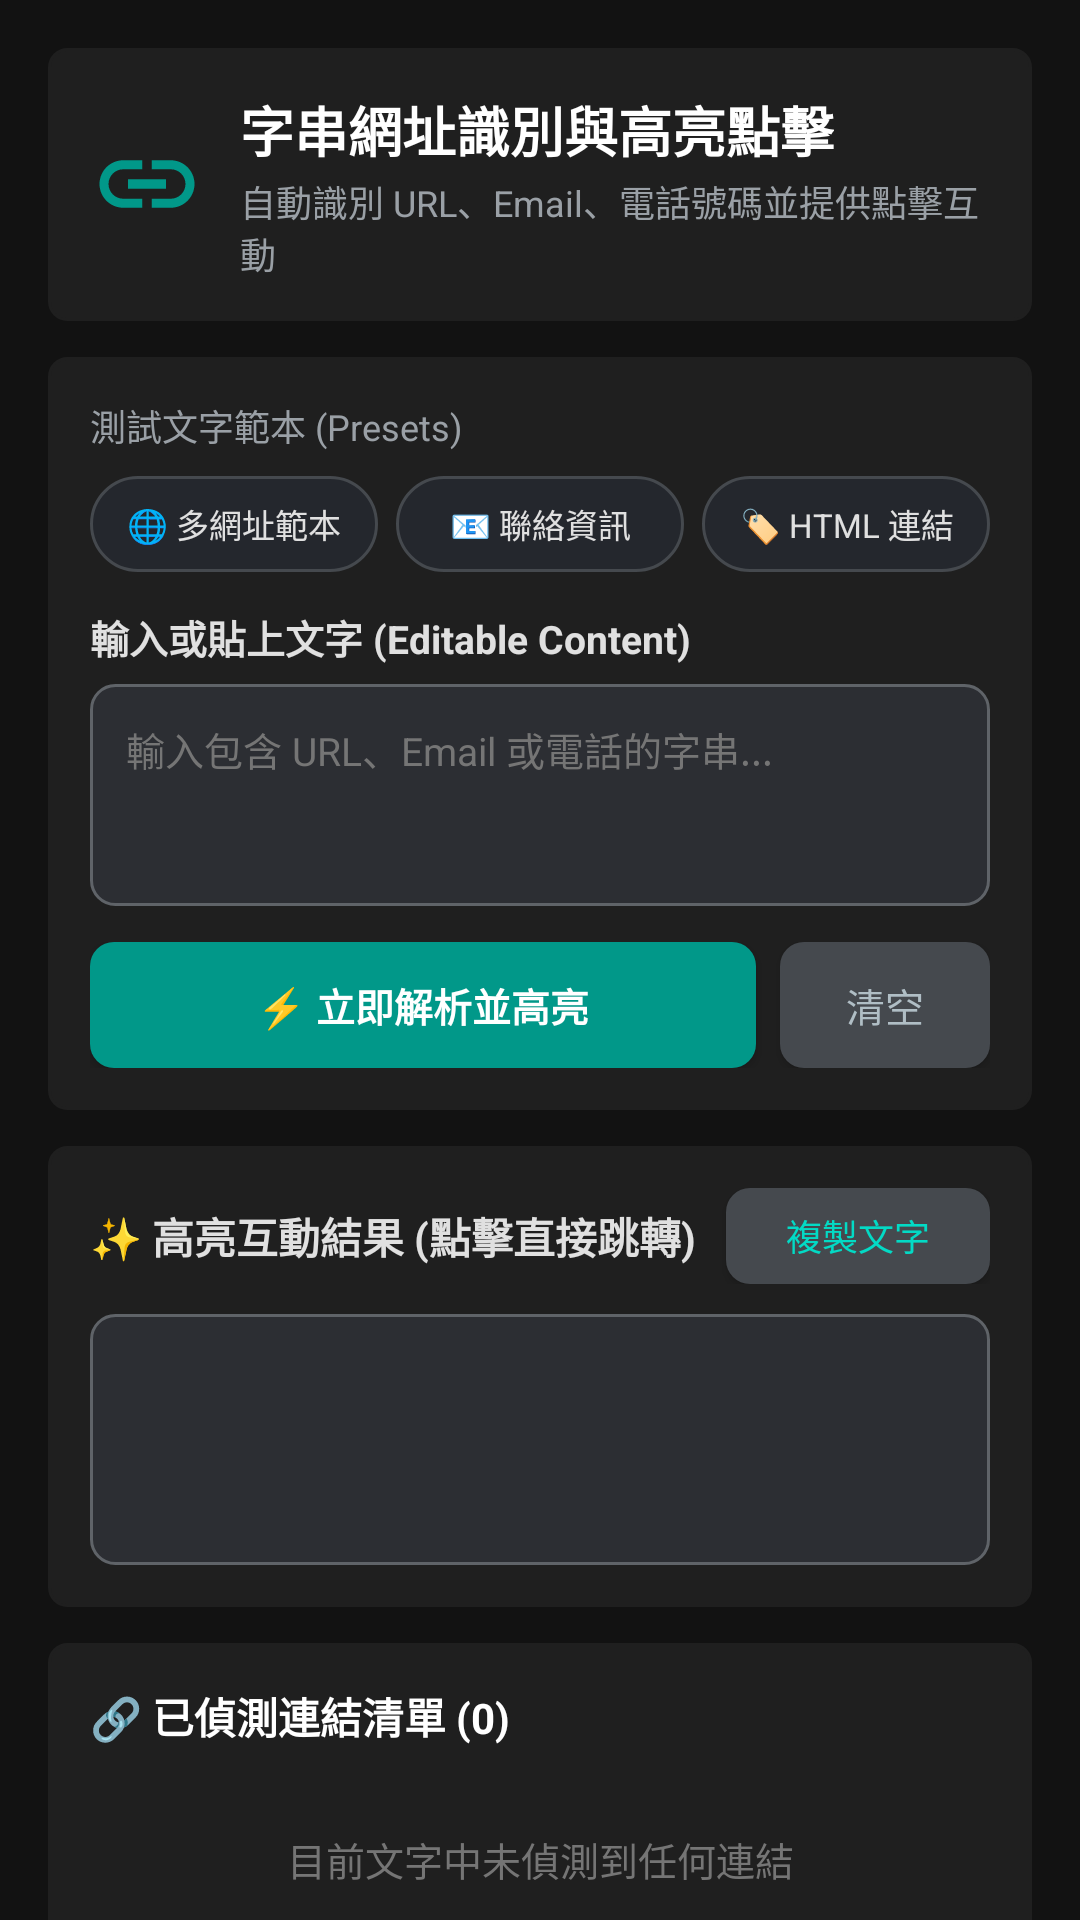

Named icons in this screenshot (1080px×1920px) and their bounding boxes, box=[x1, y1, x2, y2]:
連結圖示: box=[99, 160, 195, 208]
